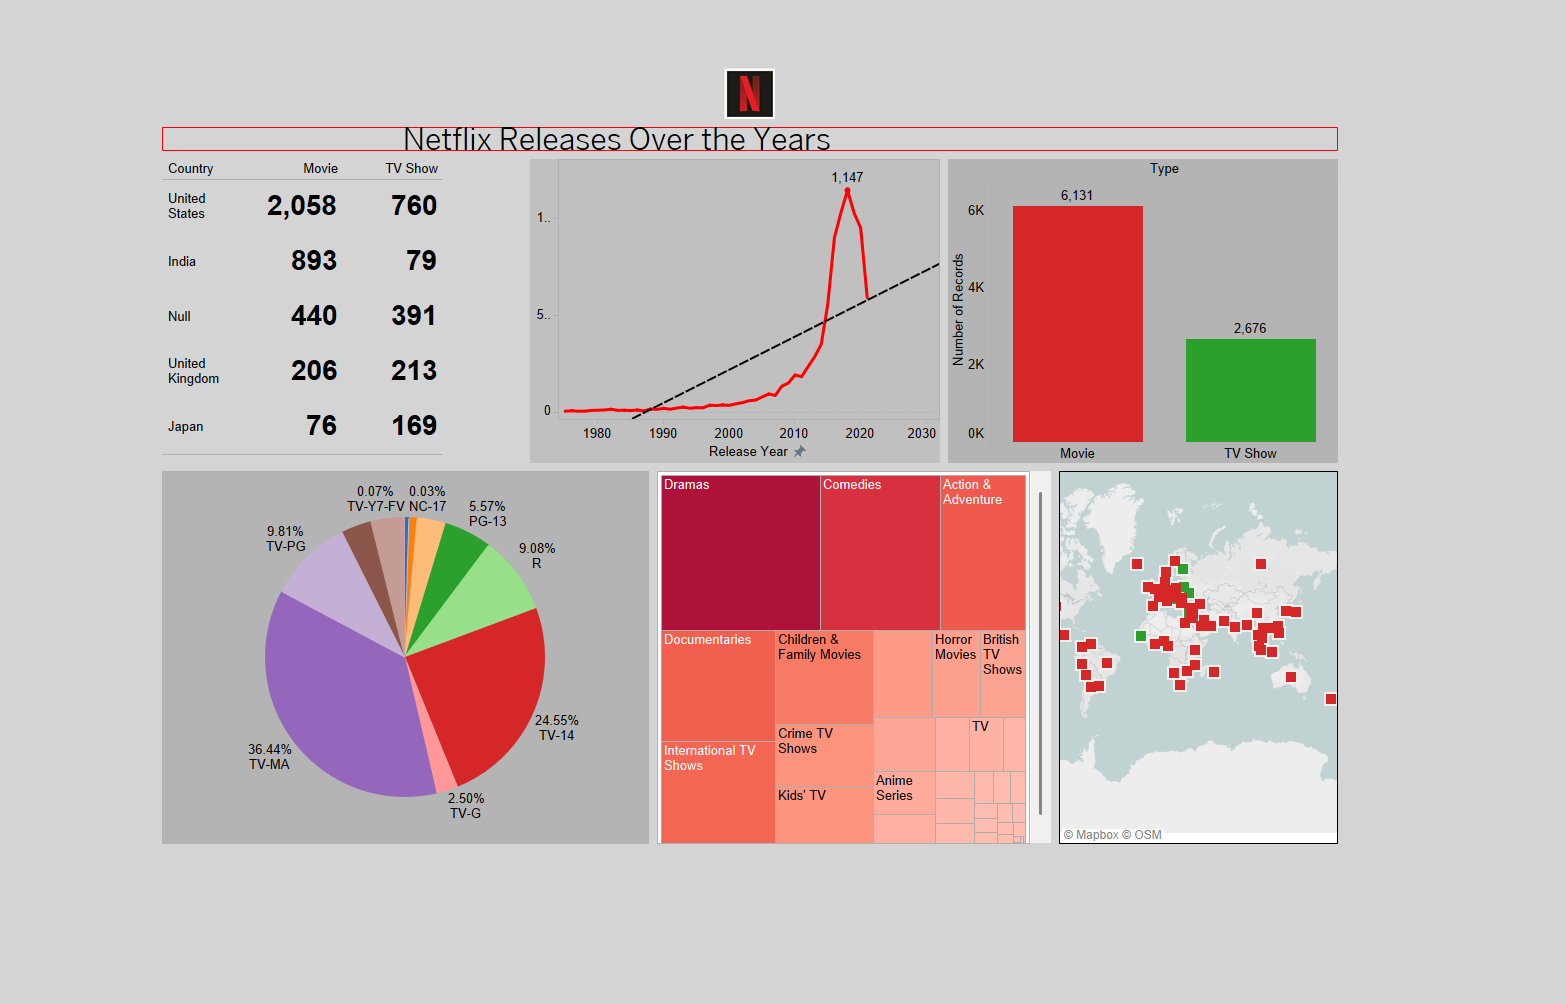

Layout of this report page (visuals, bound fields, positions):
{"tool":"tableau","page":{"name":"Netflix Dashboard","canvas":[1000,800],"ordinal":0},"visuals":[{"type":"image","param":"Image/netflix-n-logo-png_seeklogo-318950.png","box":[8,8,984,59]},{"type":"title","box":[8,67,984,32]},{"type":"worksheet","title":"Top 5 countries","mark":"Automatic","rows":["country"],"cols":["type"],"box":[8,99,323.2,312.5]},{"type":"worksheet","title":"Line chart","mark":"Line","rows":["Number of Records"],"cols":["release_year"],"box":[331.2,99,330.4,312.5]},{"type":"worksheet","title":"Bar chart","mark":"Automatic","rows":["Number of Records"],"cols":["type"],"box":[661.6,99,330.4,312.5]},{"type":"worksheet","title":"Pie chart","mark":"Pie","box":[8,411.5,507,380.5]},{"type":"worksheet","title":"Country map","mark":"Square","box":[515,411.5,477,380.5]}]}

Visuals, with their boxes on the page's 1000x800 design canvas (x1, y1, x2, y2). These are canvas units, not pixel positions in the 1566x1004 screenshot, which may show the page scaled, cropped or inside an application window:
image: bbox=[8, 8, 992, 67]
title: bbox=[8, 67, 992, 99]
"Top 5 countries" worksheet: bbox=[8, 99, 331, 412]
"Line chart" worksheet (Line marks): bbox=[331, 99, 662, 412]
"Bar chart" worksheet: bbox=[662, 99, 992, 412]
"Pie chart" worksheet (Pie marks): bbox=[8, 412, 515, 792]
"Country map" worksheet (Square marks): bbox=[515, 412, 992, 792]
